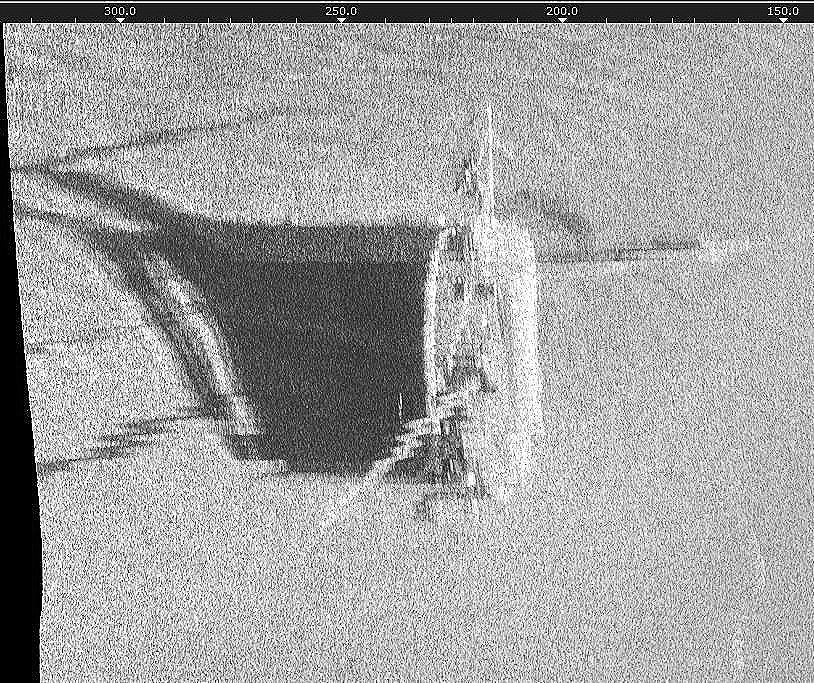ship: (286, 104, 556, 585)
